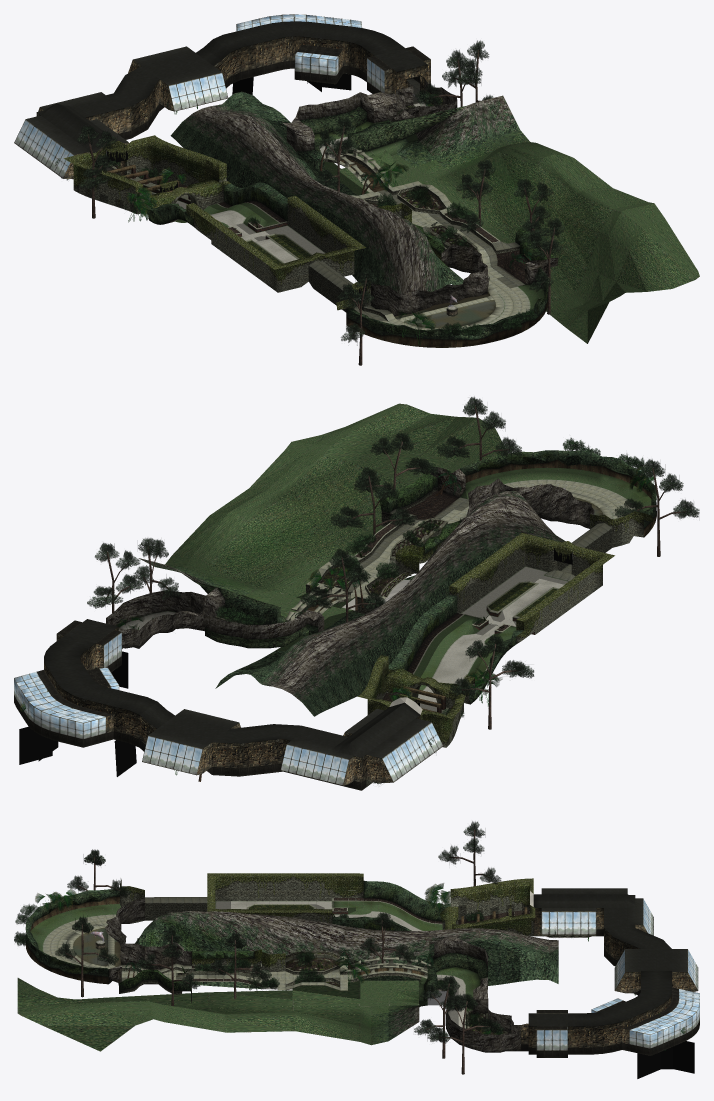
Rendered from botanical_garden.glb.
The picture shows the model from 3 angles, top to bottom: view 1: azimuth 30°, elevation 25°; view 2: azimuth 150°, elevation 25°; view 3: azimuth 270°, elevation 25°; orthographic projection. The views are drawn at different scales.
Parts seen in each view (by area): view 1: 4x4.prm.002, 4x4.prm.001, 4x4.prm.004, 4x4.prm.006, 4x4.prm.007, 4x4.prm.008, 4x4.prm.003, 4x4.prm.009, 4x4.prm.010, 4x4.prm.005, 4x4.prm.011; view 2: 4x4.prm.002, 4x4.prm.001, 4x4.prm.007, 4x4.prm.008, 4x4.prm.006, 4x4.prm.004, 4x4.prm.009, 4x4.prm.003, 4x4.prm.010, 4x4.prm.011; view 3: 4x4.prm.002, 4x4.prm.001, 4x4.prm.004, 4x4.prm.006, 4x4.prm.007, 4x4.prm.008, 4x4.prm.003, 4x4.prm.009, 4x4.prm.010, 4x4.prm.011.
Part boxes in pixels (x1,y1,x2,y2): 4x4.prm.002: [88, 50, 699, 365]; 4x4.prm.001: [26, 21, 530, 316]; 4x4.prm.004: [64, 135, 529, 320]; 4x4.prm.006: [108, 91, 553, 339]; 4x4.prm.007: [55, 40, 565, 345]; 4x4.prm.008: [193, 78, 558, 316]; 4x4.prm.003: [123, 102, 530, 330]; 4x4.prm.009: [14, 14, 529, 178]; 4x4.prm.010: [36, 36, 430, 179]; 4x4.prm.005: [93, 99, 456, 309]; 4x4.prm.011: [101, 73, 351, 147]; 4x4.prm.002: [105, 403, 686, 729]; 4x4.prm.001: [44, 475, 565, 781]; 4x4.prm.007: [20, 396, 699, 784]; 4x4.prm.008: [106, 467, 594, 693]; 4x4.prm.006: [177, 450, 656, 783]; 4x4.prm.004: [122, 487, 653, 786]; 4x4.prm.009: [14, 564, 443, 790]; 4x4.prm.003: [119, 479, 635, 773]; 4x4.prm.010: [44, 627, 420, 785]; 4x4.prm.011: [19, 579, 422, 776]; 4x4.prm.002: [17, 829, 527, 1074]; 4x4.prm.001: [95, 888, 687, 1040]; 4x4.prm.004: [119, 873, 596, 1028]; 4x4.prm.006: [25, 880, 594, 1034]; 4x4.prm.007: [14, 821, 686, 1050]; 4x4.prm.008: [105, 899, 558, 1052]; 4x4.prm.003: [42, 897, 529, 1028]; 4x4.prm.009: [371, 899, 699, 1057]; 4x4.prm.010: [521, 908, 697, 1047]; 4x4.prm.011: [261, 890, 694, 1078].
Bounding box in the file's own units: 173 × 51.75 × 281.
Materials: 11 (10 with a texture image).
